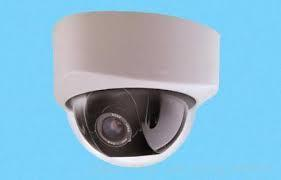maru: (49, 12, 228, 171)
